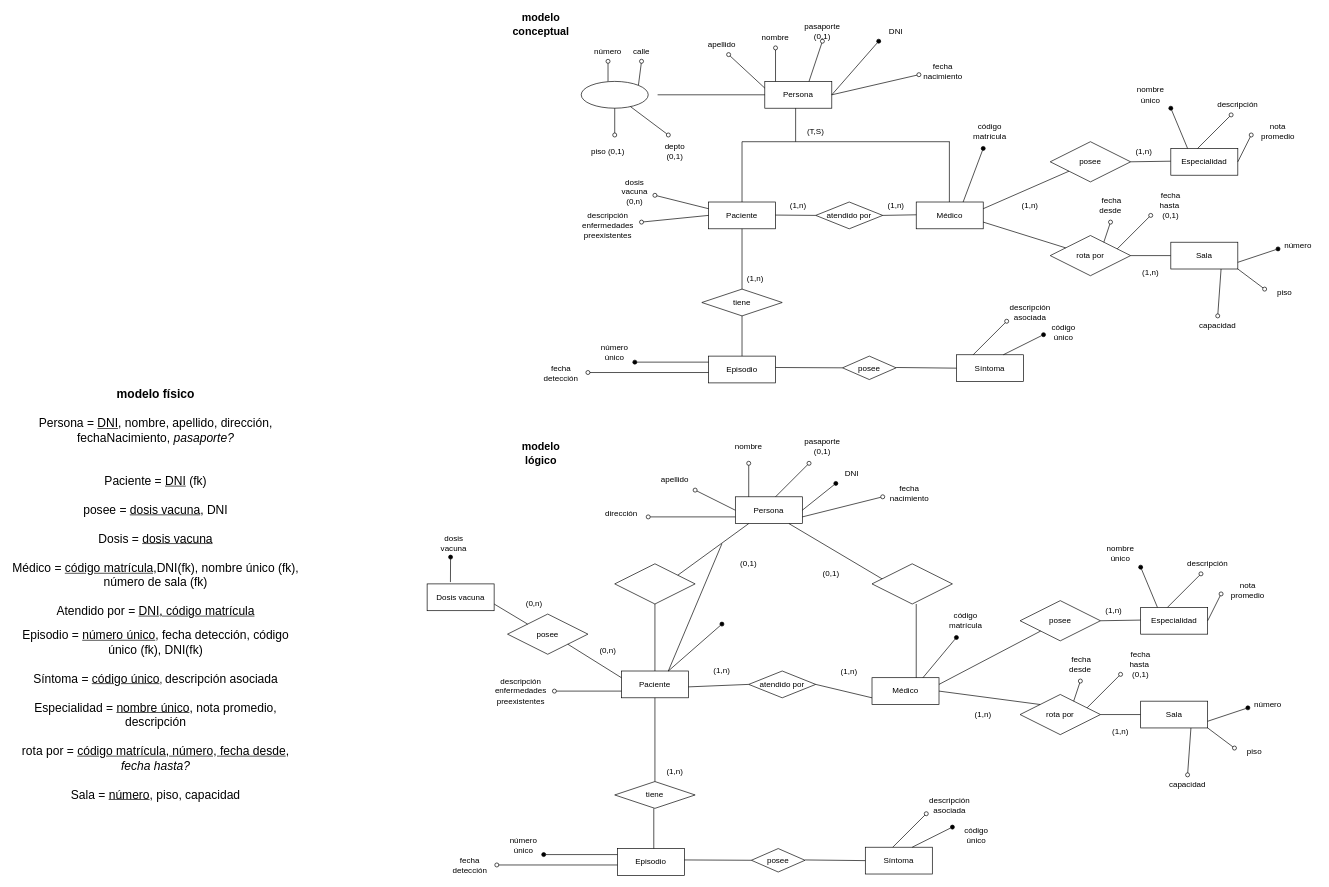
Some shapes in this 1329 by 887 pixel diagram are drawn without their labels. Here are the shapes that lost their labels. From the top down, the centre of each, then its label:
At point (614, 94): "dirección detallada".
At point (654, 583): "es 1".
At point (911, 583): "es 2".
